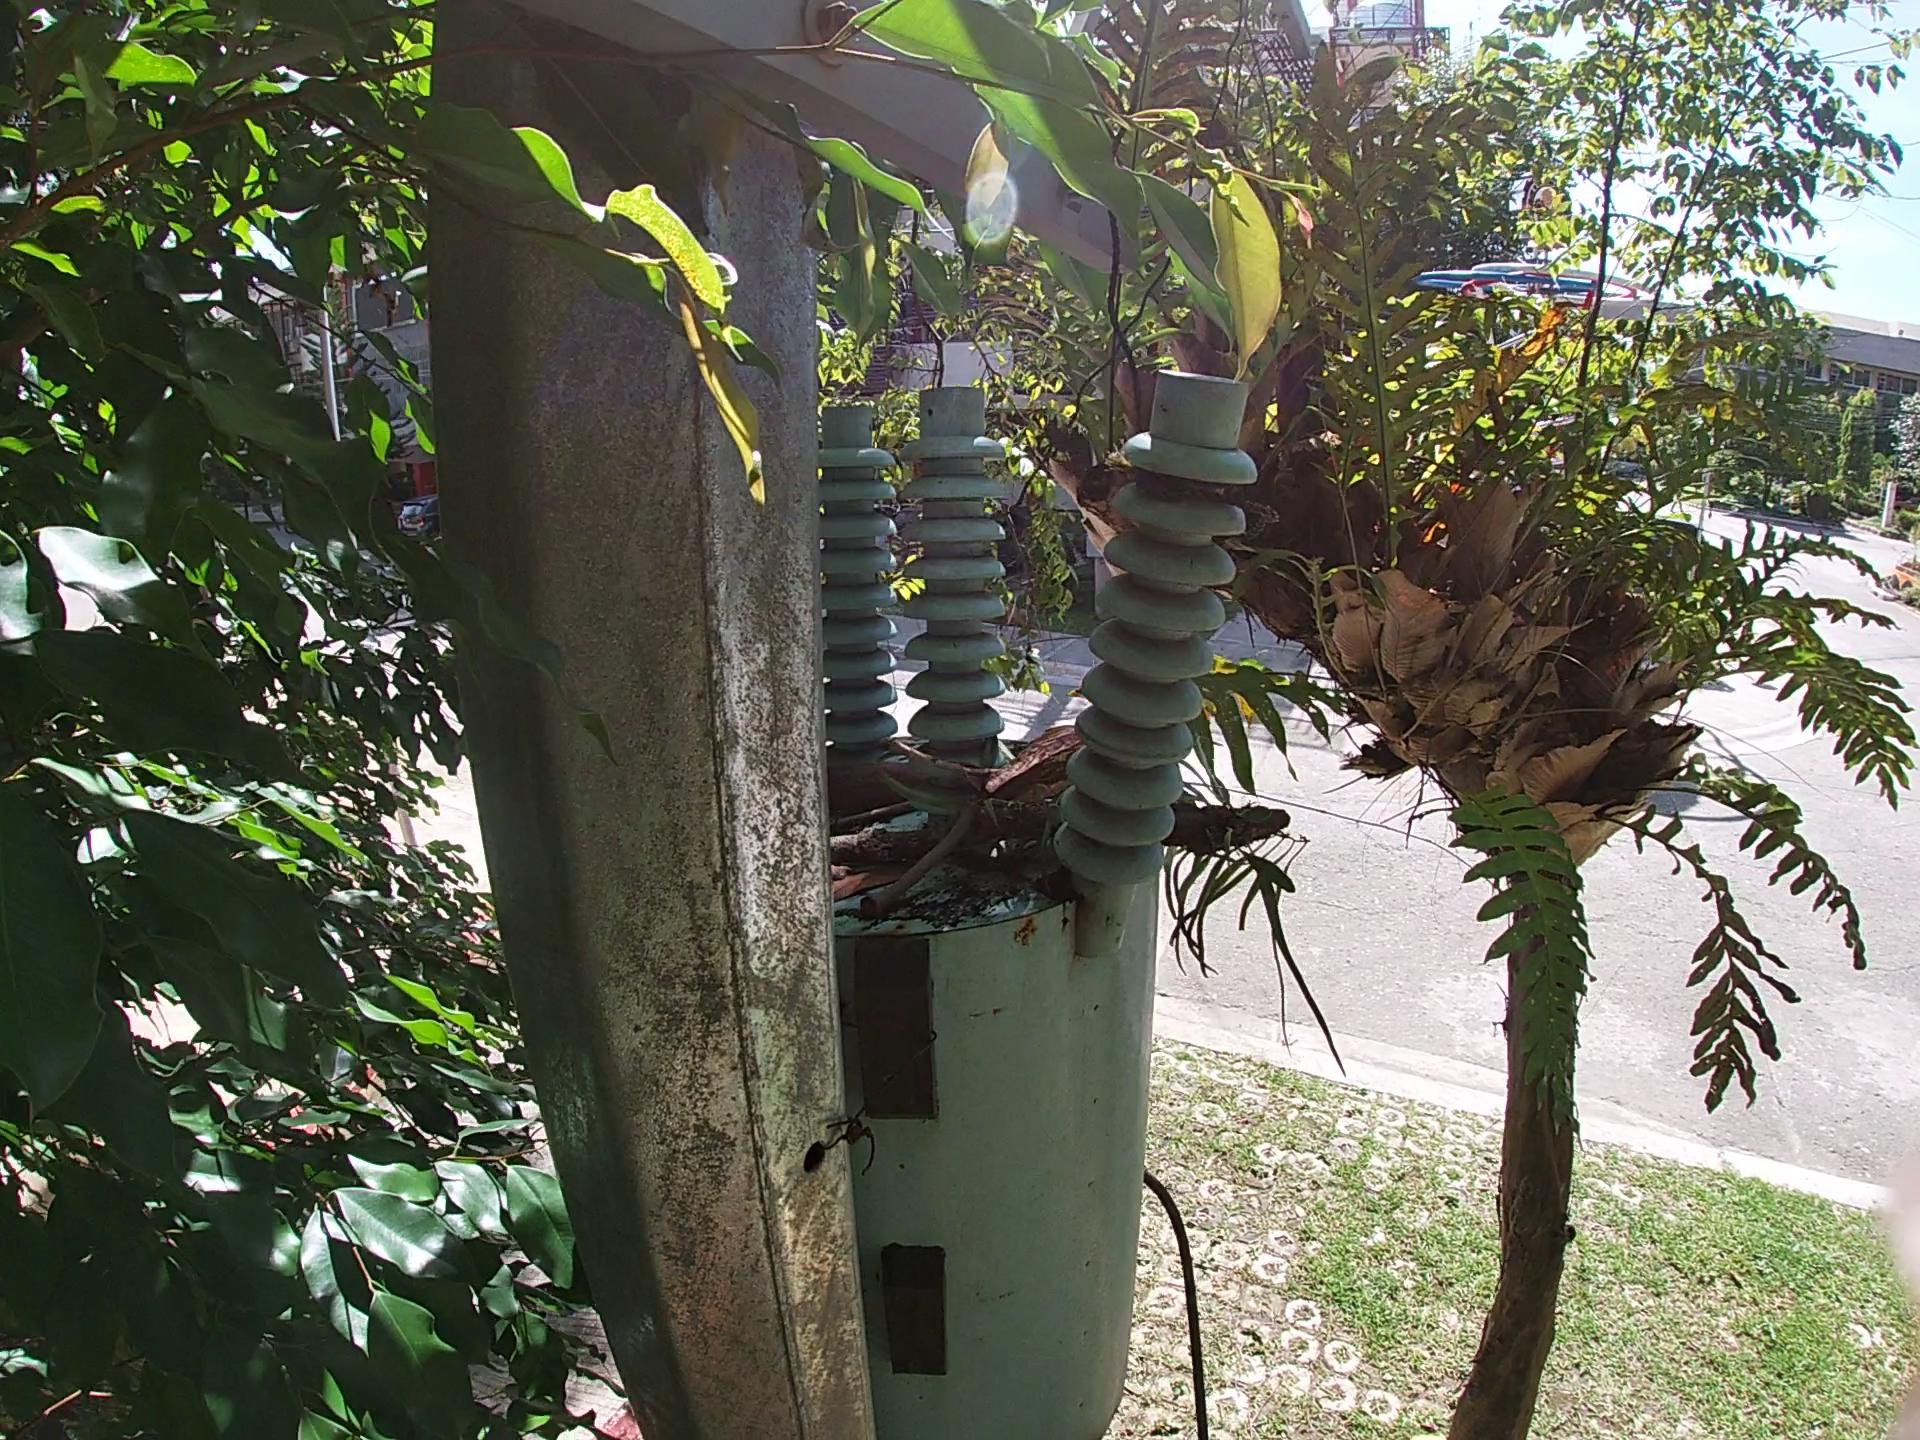branch with leaves: (825, 787, 1259, 849)
leaf: (785, 812, 903, 944)
mahogany fruit: (850, 755, 977, 862)
tree branch: (919, 750, 1491, 874), (845, 764, 1011, 936)
